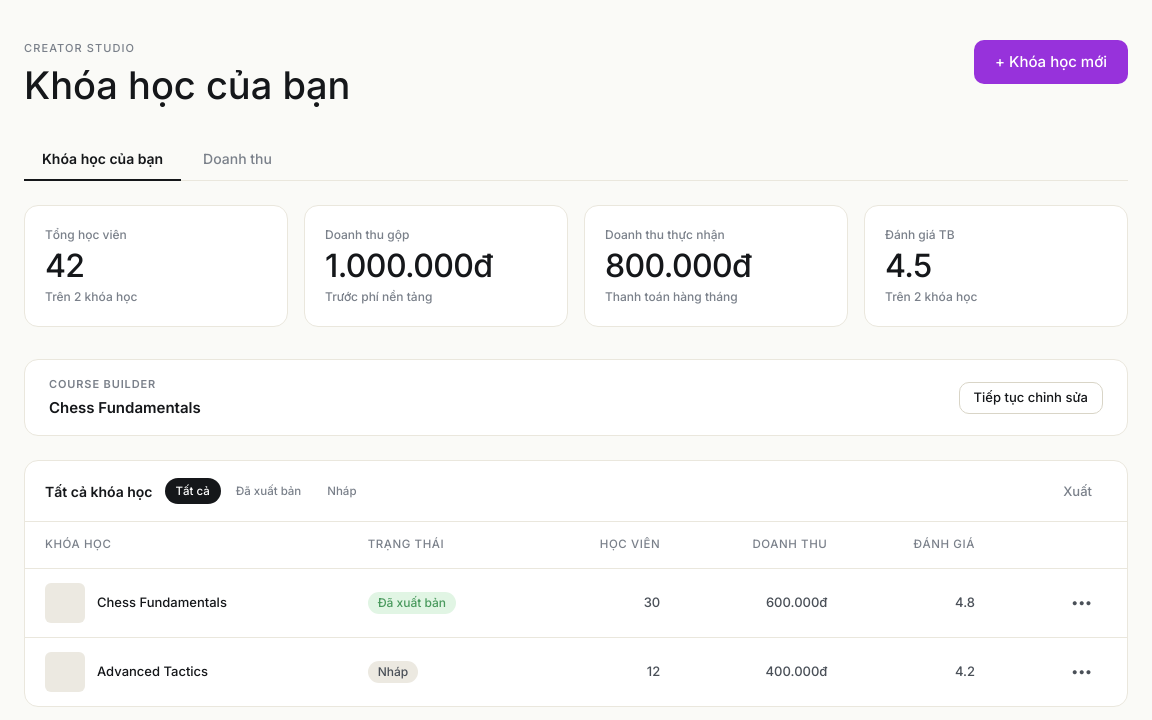
Test: CreatorStudioPage › prepends the duplicated course to the table on success
Check: the text with test id "course-title-c1" is shown, box top-left (97, 593), bottom-right (227, 612)
Click the button with test id "kebab-btn" in the row of "30".
click(1082, 602)  # box top-left (1056, 586), bottom-right (1107, 618)
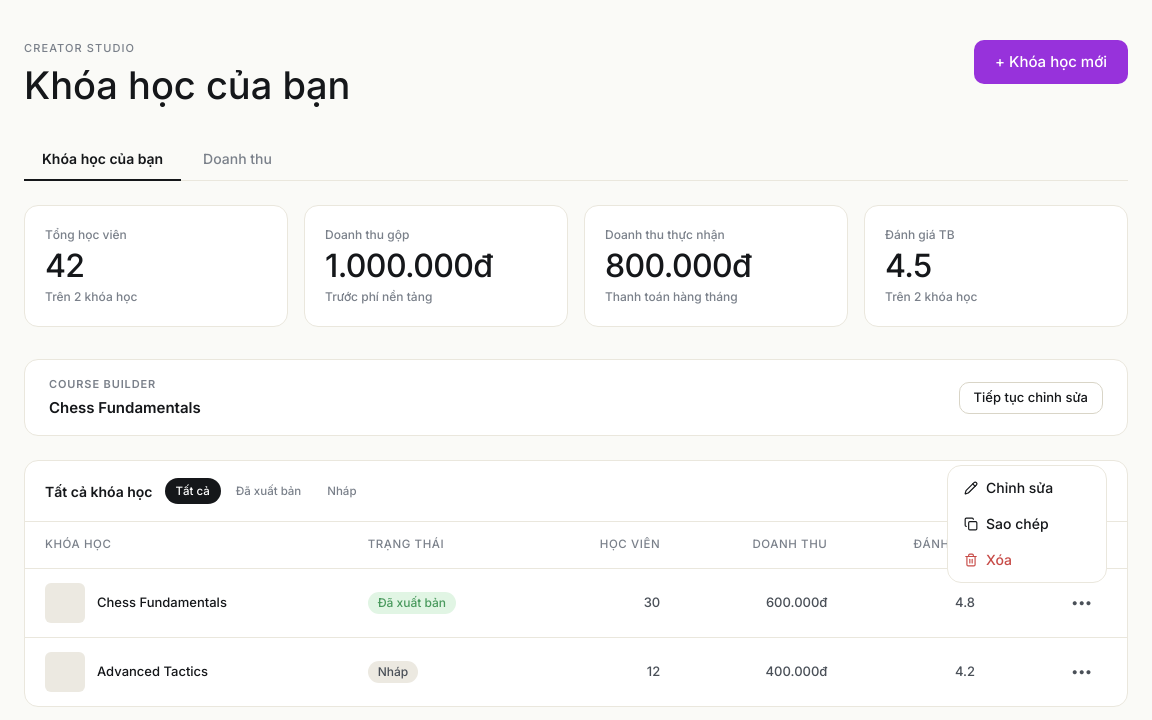
Click the menu item with test id "kebab-duplicate-c1".
click(1006, 524)  # box top-left (964, 515), bottom-right (1049, 532)
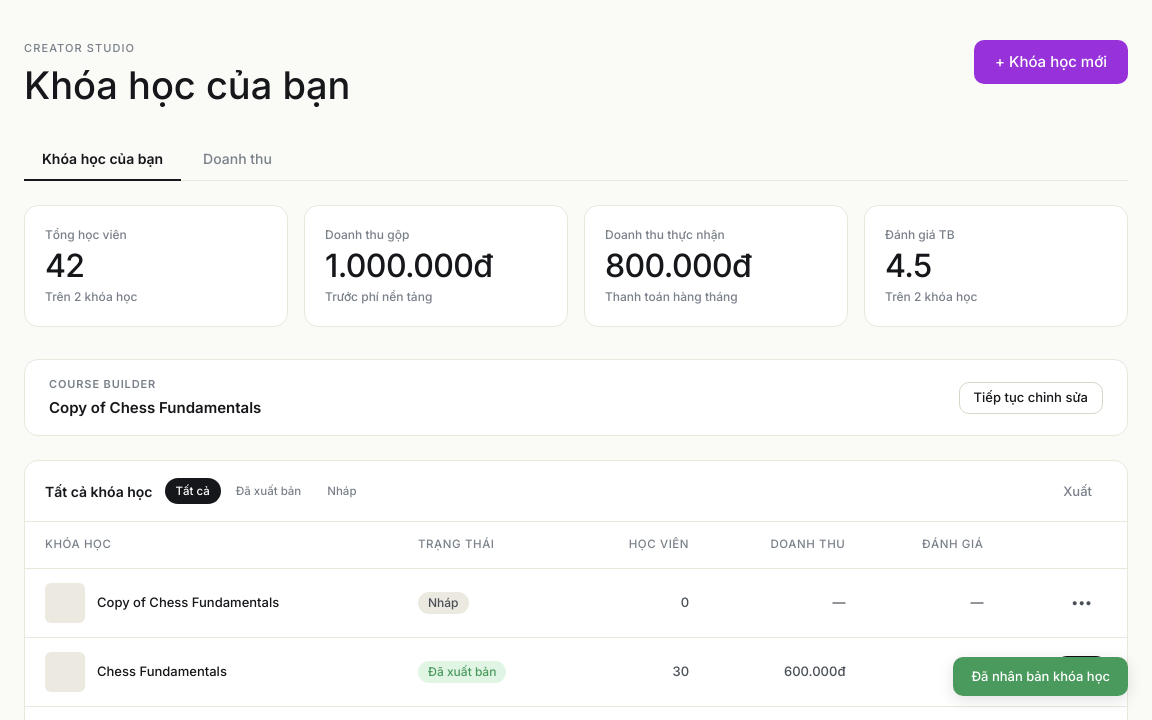
Check: the text with test id "course-title-c1-copy" is shown, box top-left (97, 593), bottom-right (279, 612)
